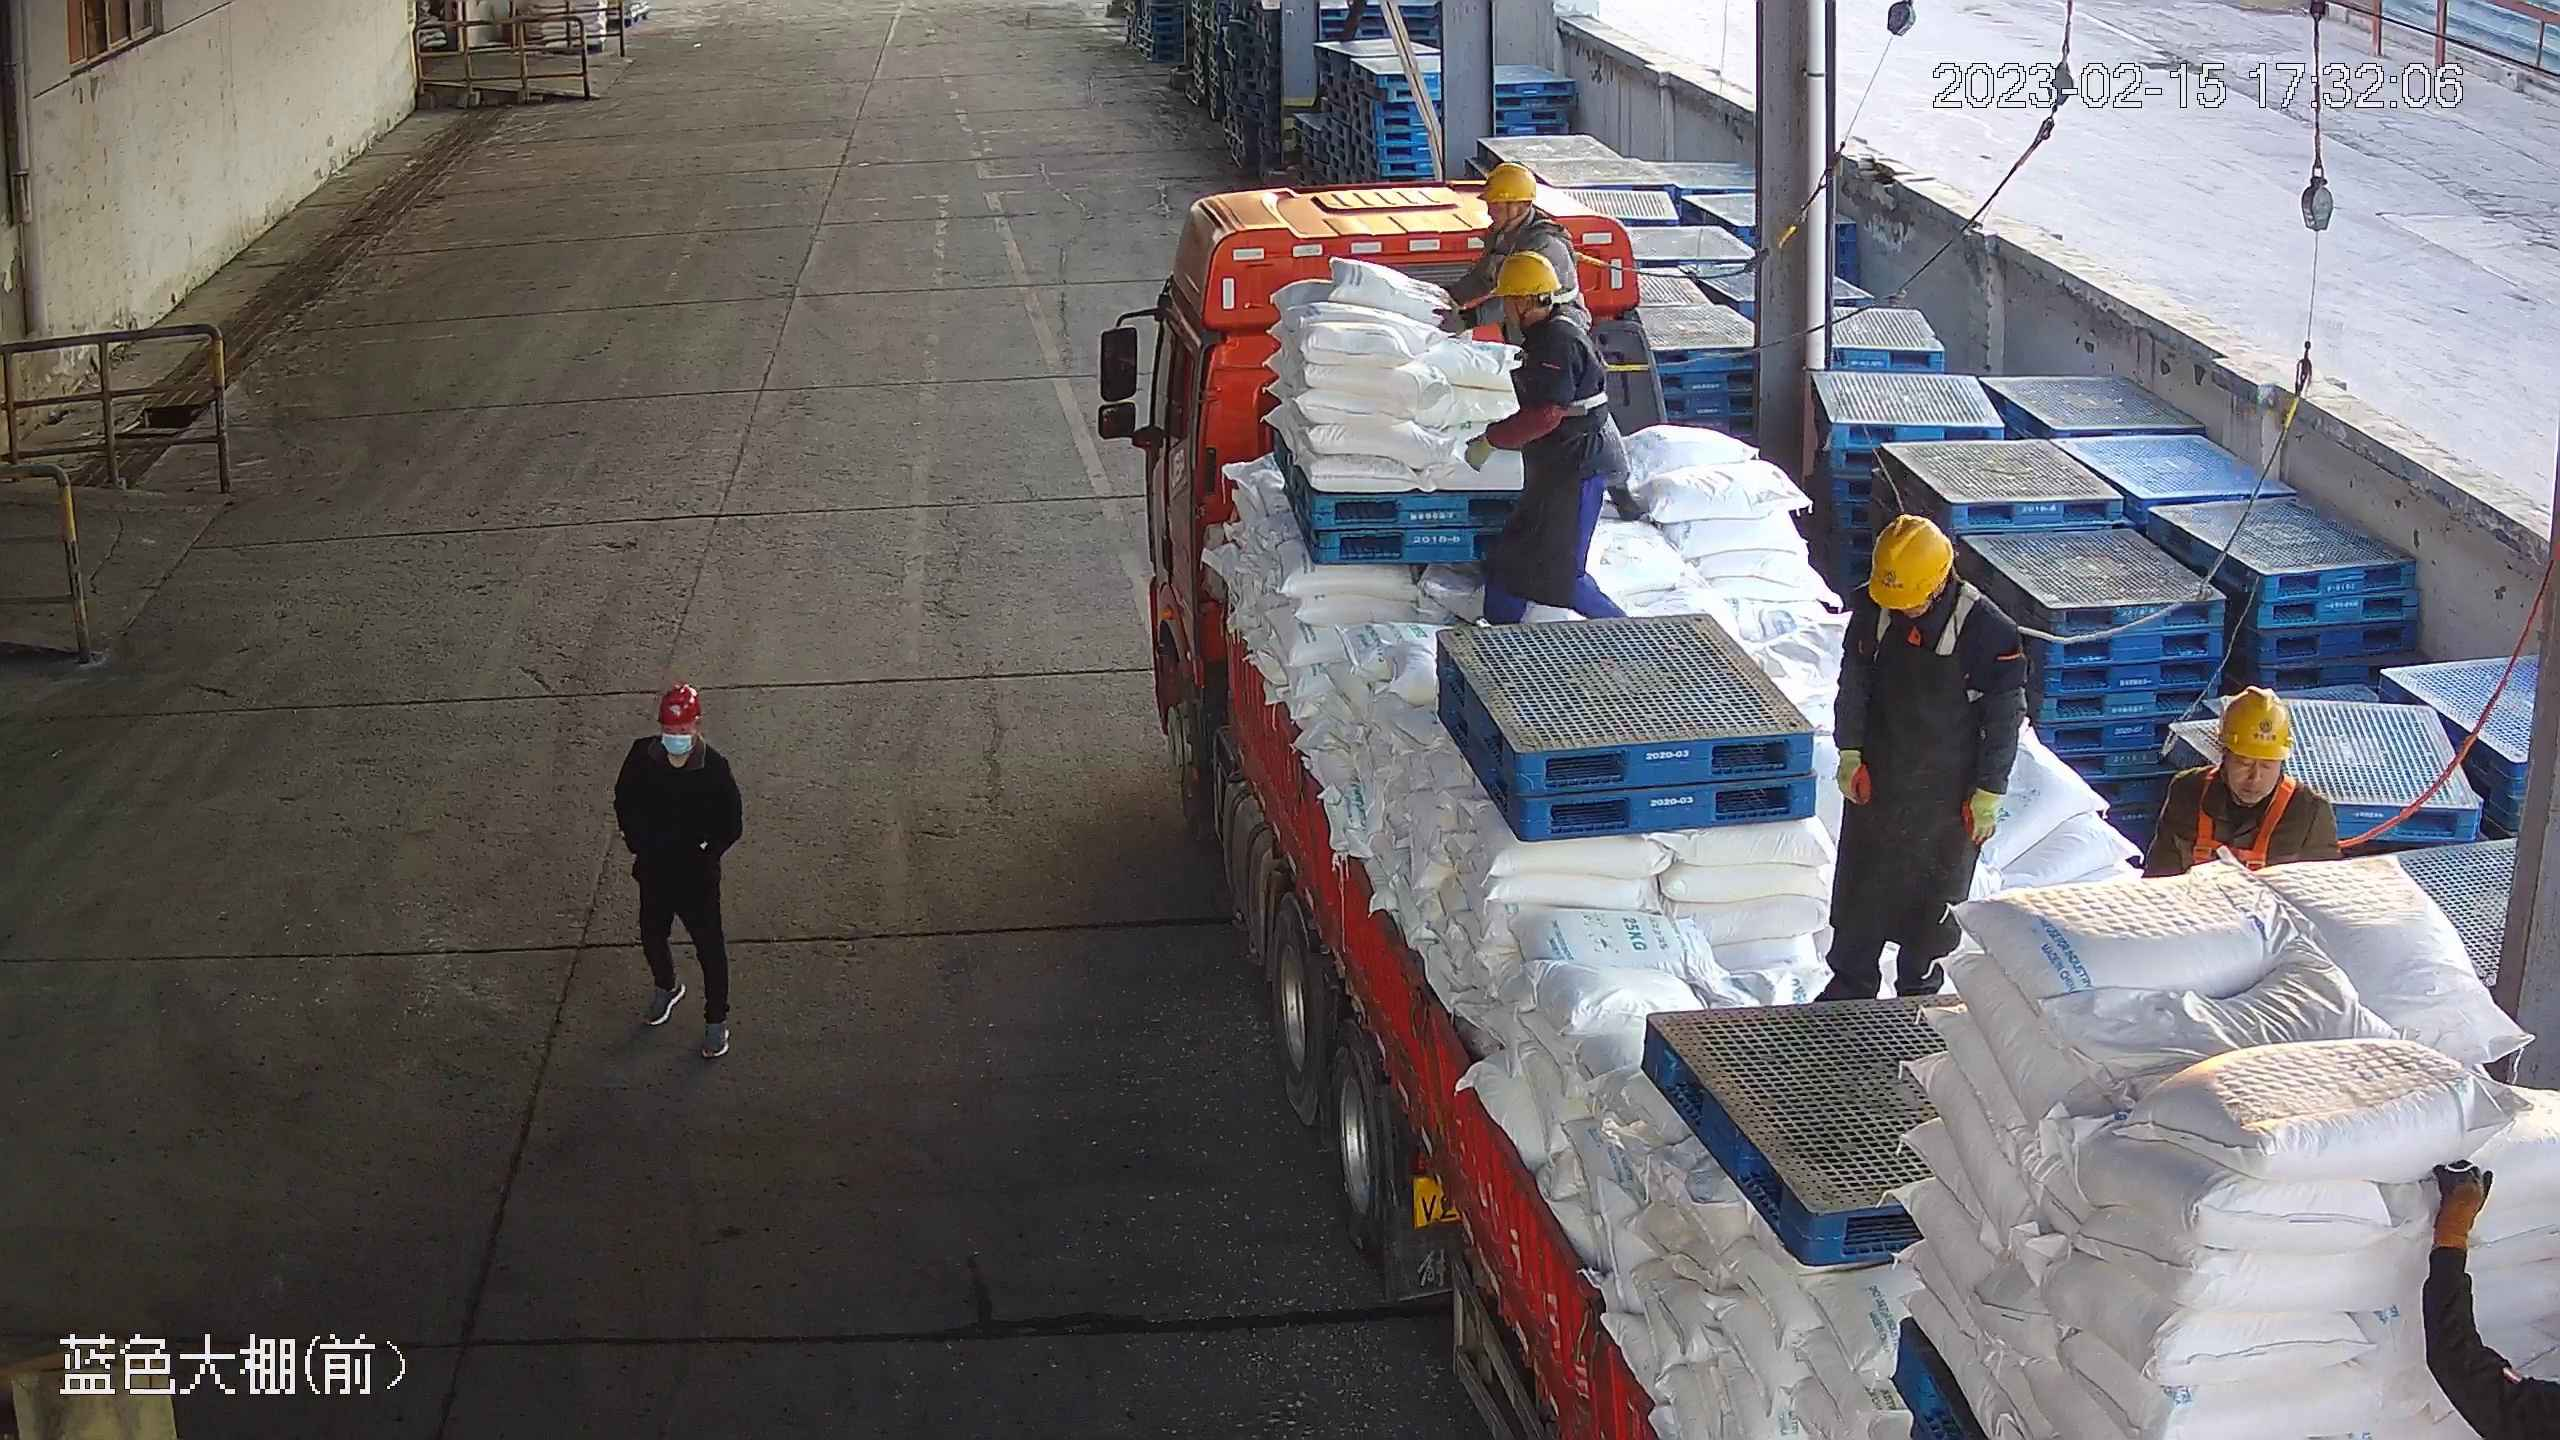belt: (2182, 763, 2352, 878), (1867, 573, 2045, 666), (1504, 313, 1648, 418), (1494, 213, 1613, 308)
head: (1845, 511, 2025, 662), (2166, 685, 2338, 838), (618, 684, 740, 787), (1490, 249, 1602, 358), (1466, 161, 1576, 256)
helmet: (1867, 512, 1956, 610), (2215, 684, 2294, 763), (1491, 249, 1563, 299), (1477, 161, 1537, 203), (656, 683, 704, 726)
people: (1825, 511, 2029, 1001), (1465, 248, 1633, 628), (610, 680, 749, 1060)
truck: (1145, 175, 2560, 1440)
